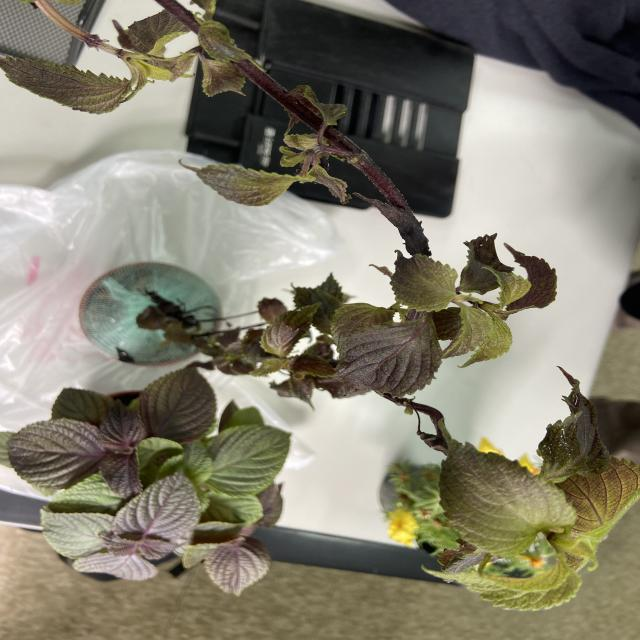normal: (326, 236, 640, 611), (2, 383, 312, 610)
